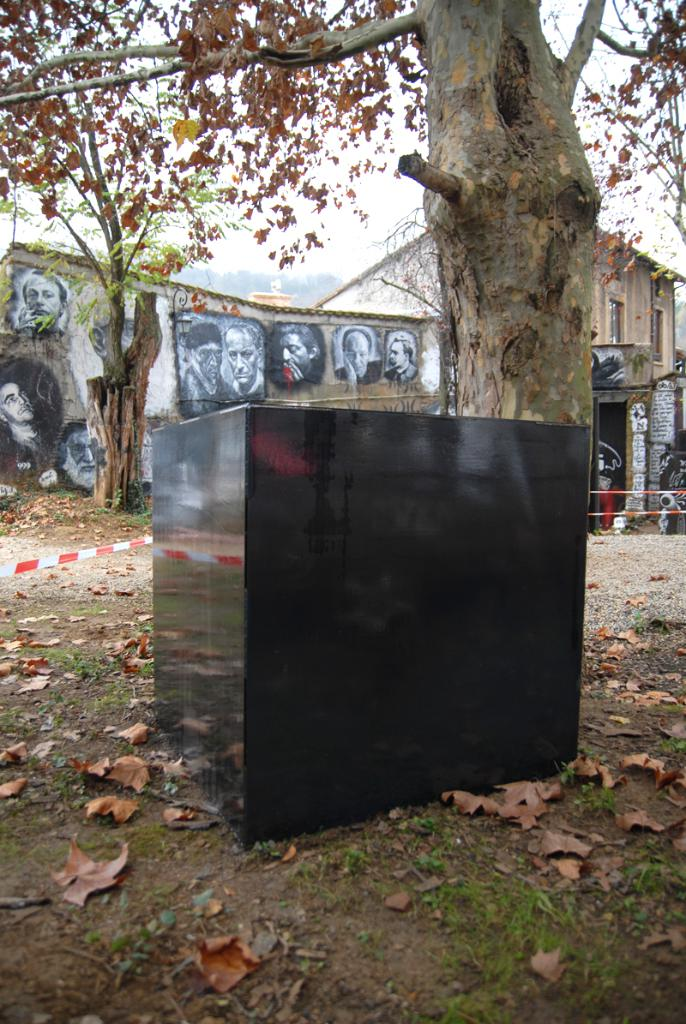Tree: (0, 0, 685, 497), (0, 18, 195, 538)
